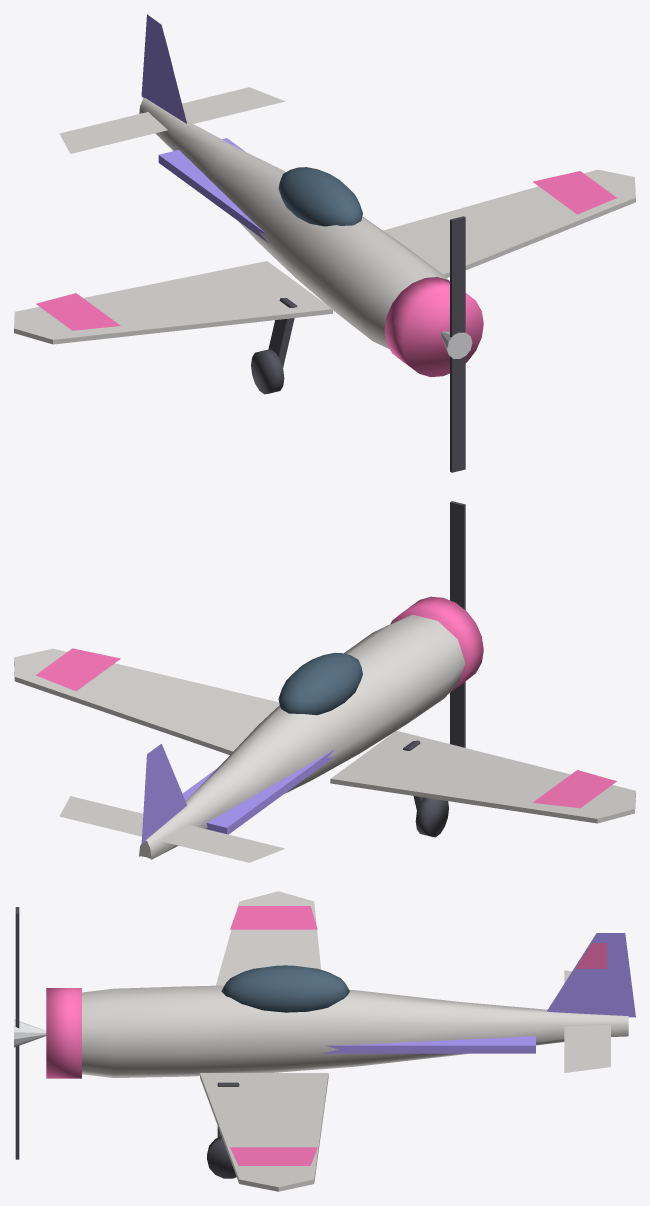
3 views of the same model, one above another, from view 1: azimuth 30°, elevation 25°; view 2: azimuth 150°, elevation 25°; view 3: azimuth 270°, elevation 25° (orthographic). The views are drawn at different scales.
Parts seen in each view (by area): view 1: plane, prop; view 2: plane, prop; view 3: plane, prop.
Boxes of the visible parts, x1,y1,x2,y2 form: plane: (14,14,635,394); prop: (450,216,465,472); plane: (14,596,635,862); prop: (450,501,465,747); plane: (14,891,635,1191); prop: (15,907,19,1159).
Size of the model in its own units: 9.8 by 3.8 by 8.7.
